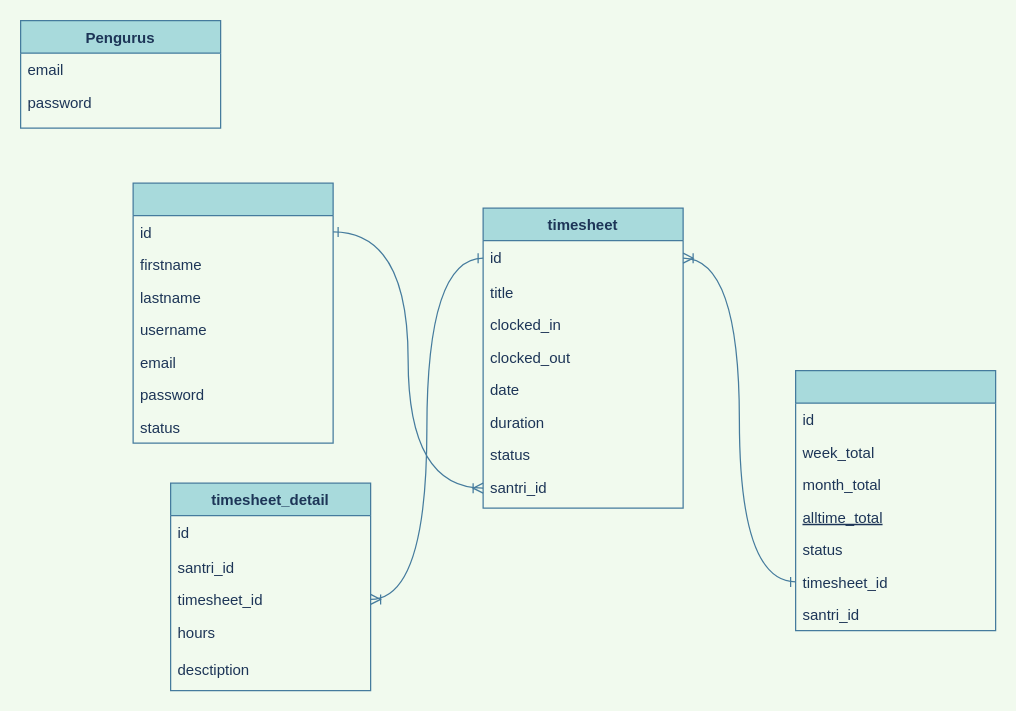
The diagram is 1016 pixels wide and 711 high, and some of its shapes have lost their labels. Here are the shapes that lost their labels. From the top down, the box of each, then its label:
(132, 182, 333, 443): santri
(794, 369, 996, 631): statistic
